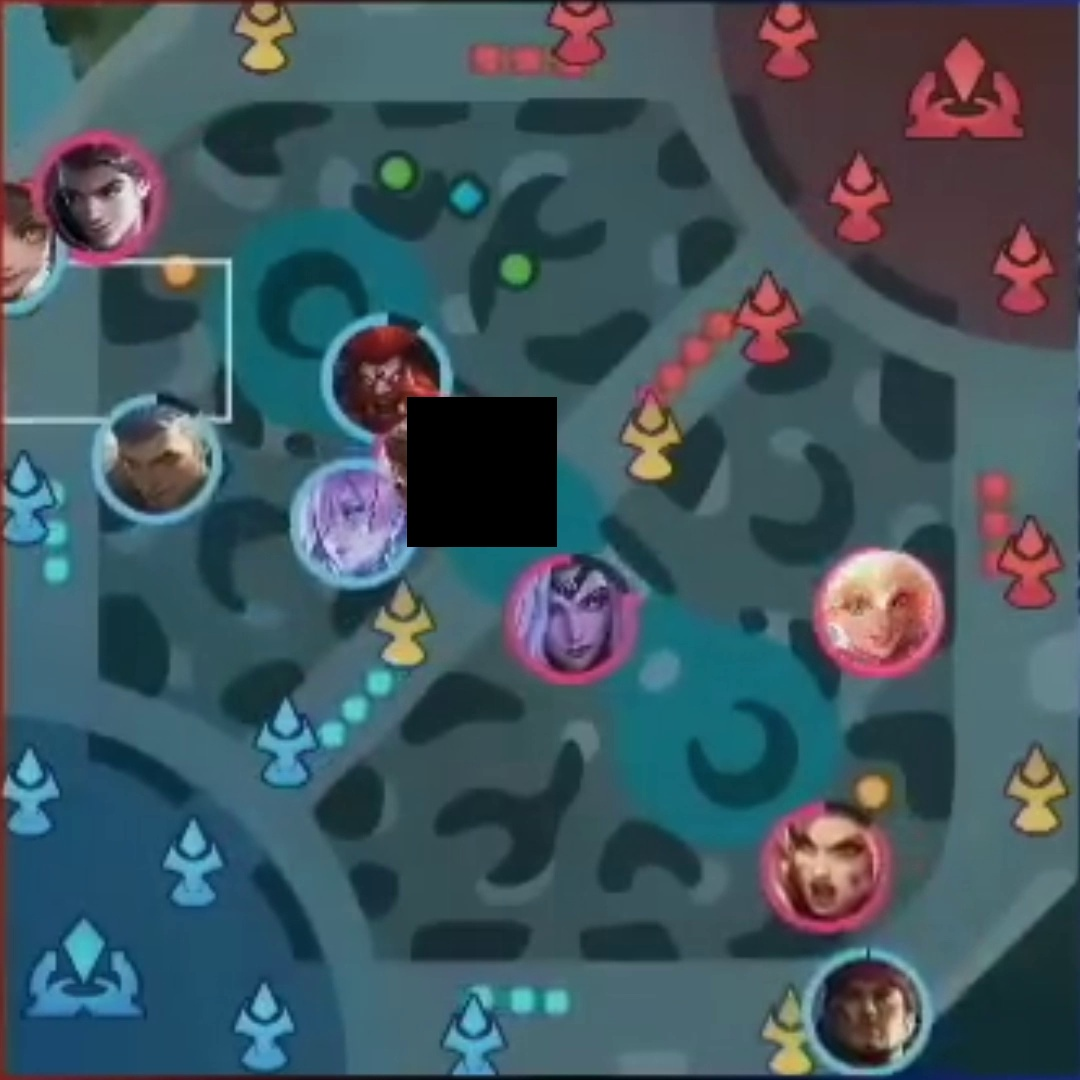Chou: (401, 415, 484, 529)
Claude: (51, 147, 151, 254)
Fanny: (827, 553, 936, 666)
Fredrinn: (106, 402, 209, 515)
Lapu-Lapu: (818, 954, 925, 1057)
Masha: (772, 810, 882, 934)
Minotaur: (335, 320, 440, 428)
Novaria: (301, 467, 414, 581)
Valentina: (512, 559, 632, 680)
Wanwan: (1, 180, 51, 300)
